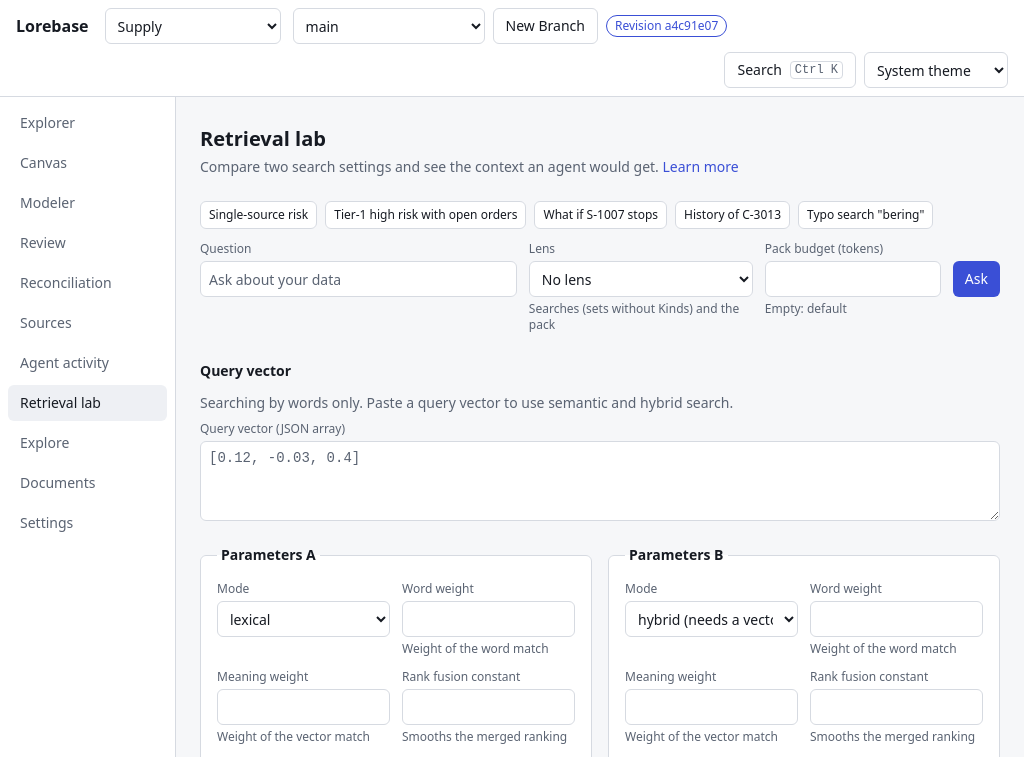
it: Retrieval lab › puts the question in the URL when asked
The image size is (1024, 757).
Type "bearing" into the field labelled "Question" at (358, 279), box left=200, top=261, right=517, bottom=297
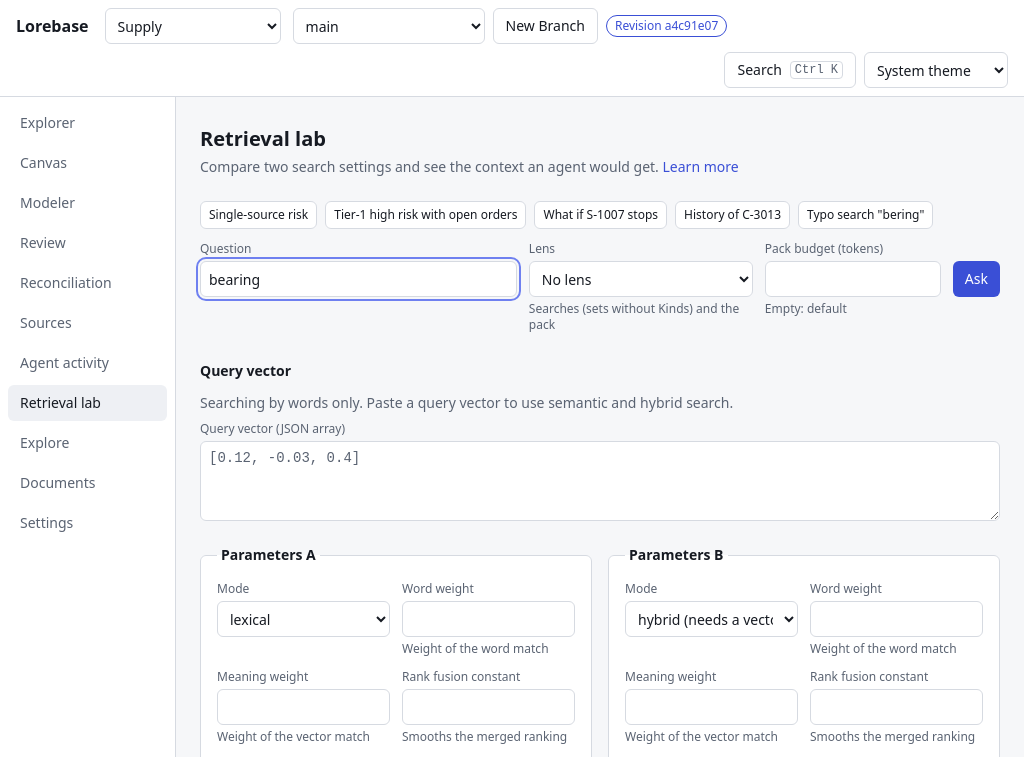
Click the button "Ask" at (976, 279), box left=953, top=261, right=1000, bottom=297
(page scrolled)
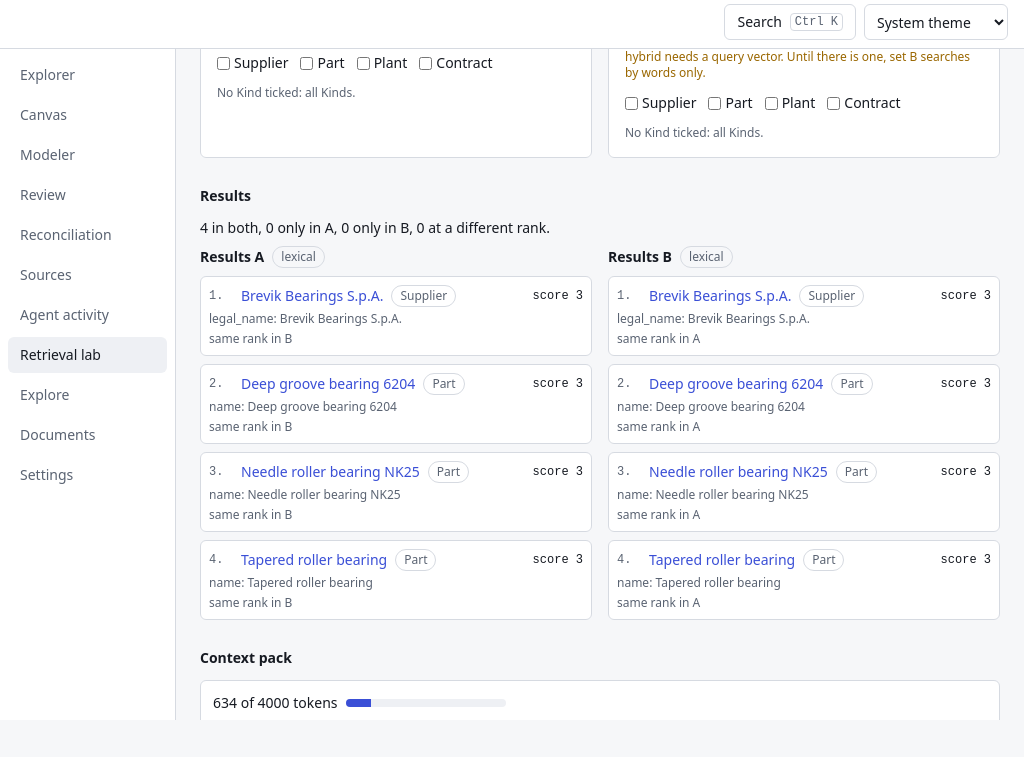
expect the link "Deep groove bearing 6204" below "Results A" is shown: met, box left=241, top=374, right=415, bottom=394
